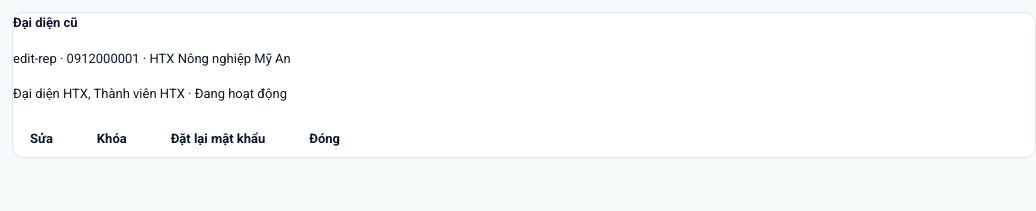
Scenario: [AH-223 FN-TK-02/EX-04] còn Đại diện HTX khác đang hoạt động → khóa ngay, không hỏi
Click the button "Khóa". click: (112, 138)
box: [80,120,144,157]
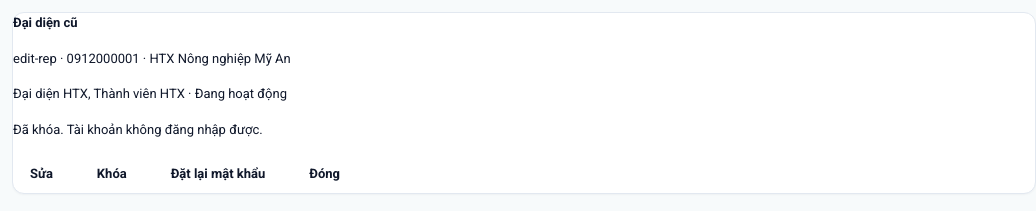
Expected: the message shows "Đã khóa.", [13,122,263,136]
